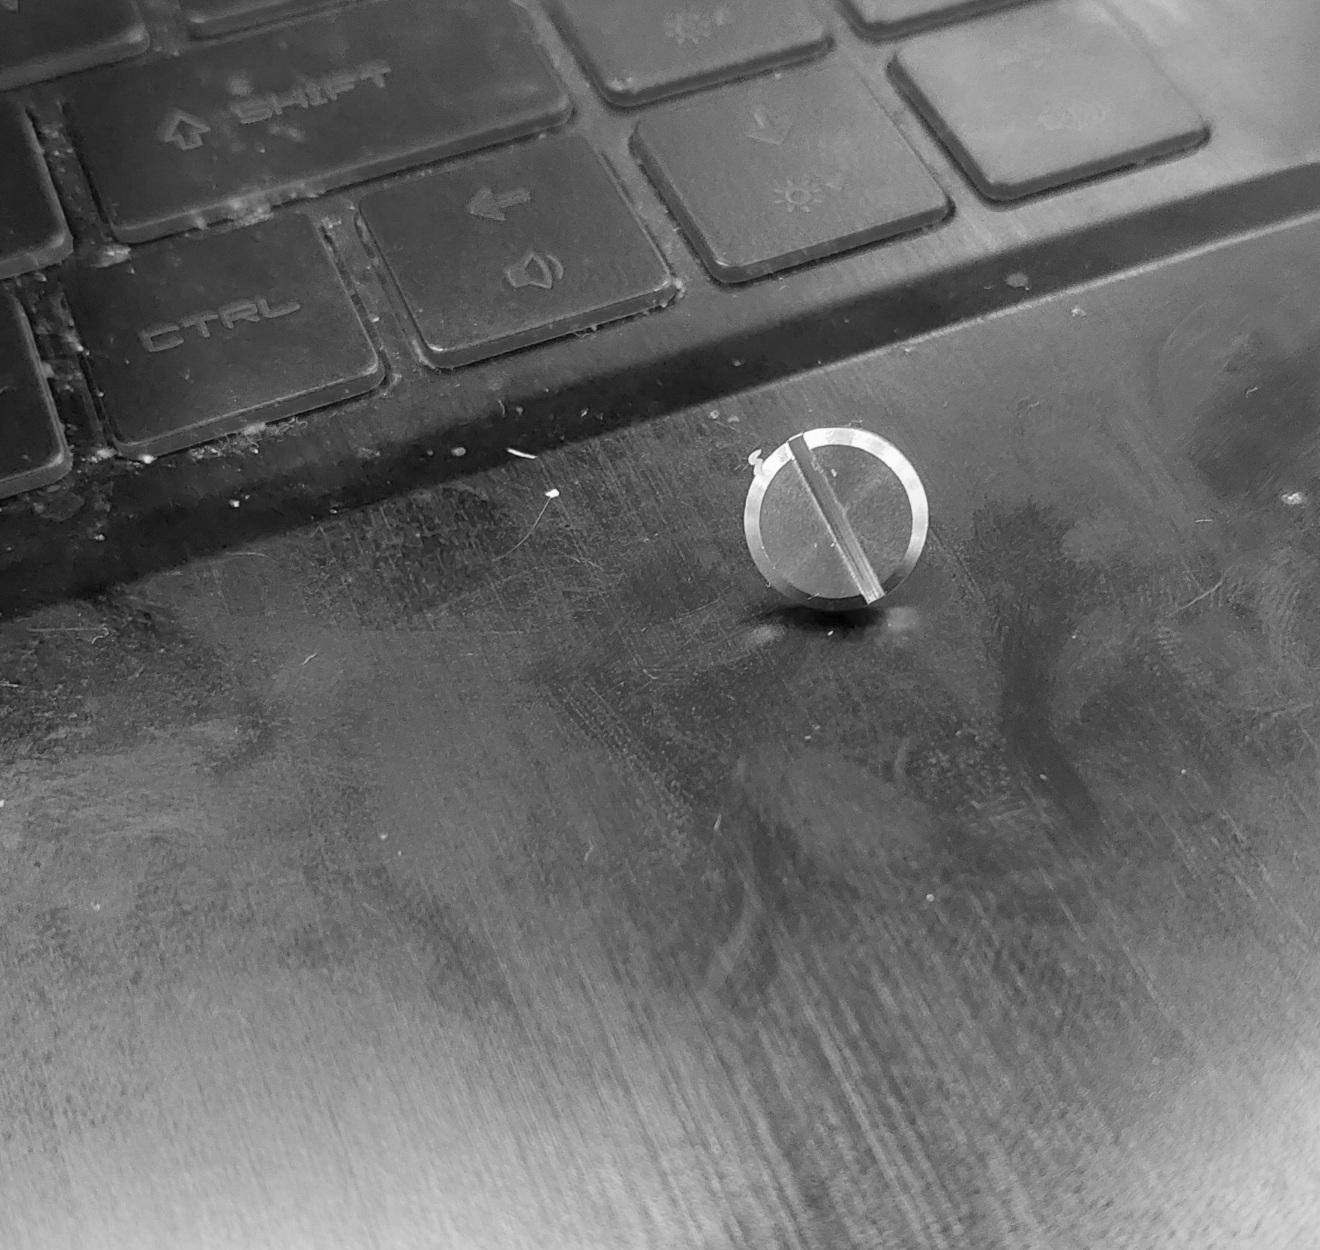screw: (747, 417, 940, 625)
